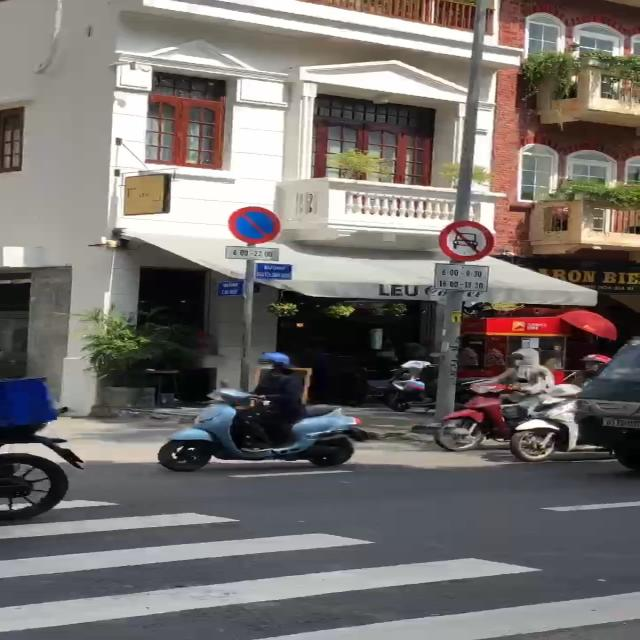Bien bao cam do xe: (224, 206, 292, 245)
Bien bao cam xe oto: (433, 216, 498, 264)
